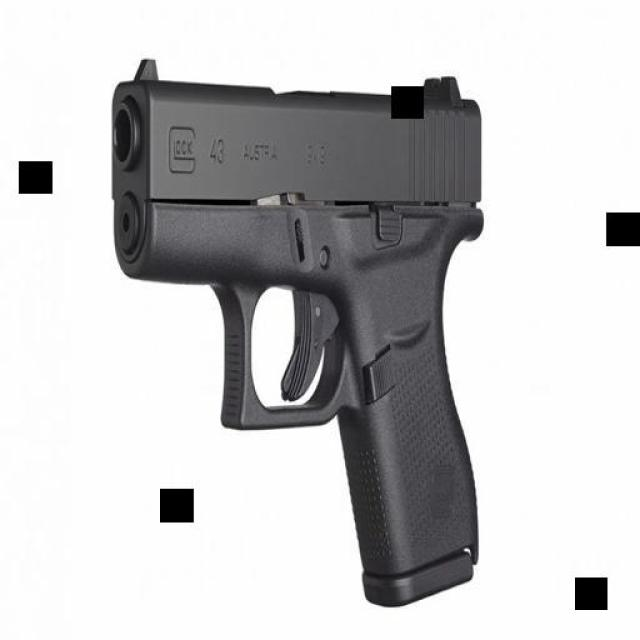gun: (108, 49, 482, 609)
